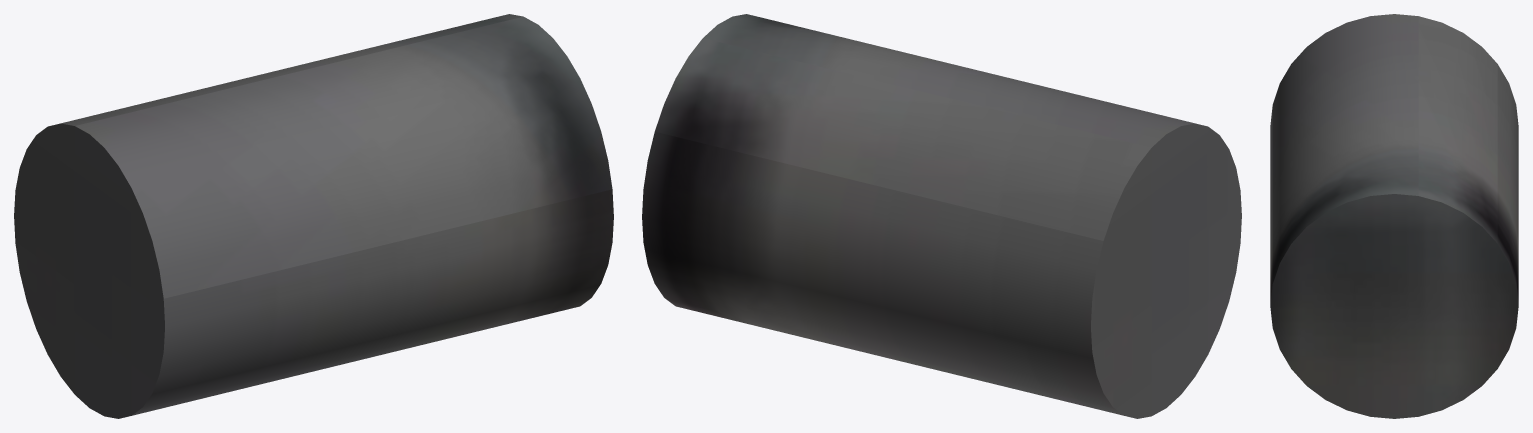
The model's file is wheel_1__valve_stem.glb.
3 renders of one model, left to right at view 1: azimuth 30°, elevation 25°; view 2: azimuth 150°, elevation 25°; view 3: azimuth 270°, elevation 25°, orthographic. The views are drawn at different scales.
Parts seen in each view (by area): view 1: world; view 2: world; view 3: world.
Part boxes in pixels (left/top/right/bottom): world: left=14, top=14, right=613, bottom=418; world: left=642, top=14, right=1241, bottom=418; world: left=1270, top=14, right=1518, bottom=418.
Bounding box in the file's own units: 0.012 × 0.007 × 0.007.
Materials: 1 (1 with a texture image).
